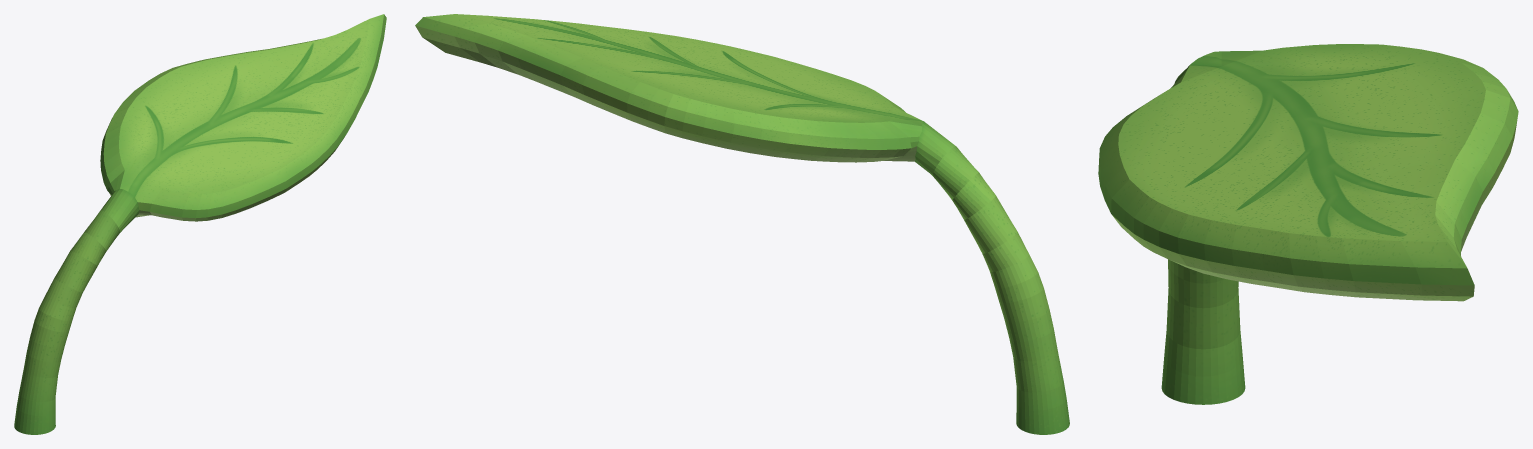
The model's file is Leaf.glb.
3 renders of one model, left to right at view 1: azimuth 30°, elevation 25°; view 2: azimuth 150°, elevation 25°; view 3: azimuth 270°, elevation 25°, orthographic. The views are drawn at different scales.
Visible parts, largest first — view 1: Leaf; view 2: Leaf; view 3: Leaf.
Part boxes in pixels (x1,y1,x2,y2): Leaf: (14,14,386,434); Leaf: (415,14,1069,434); Leaf: (1098,44,1518,404).
Bounding box in the file's own units: 3.56 × 2.07 × 1.48.
Materials: 1 (1 with a texture image).
